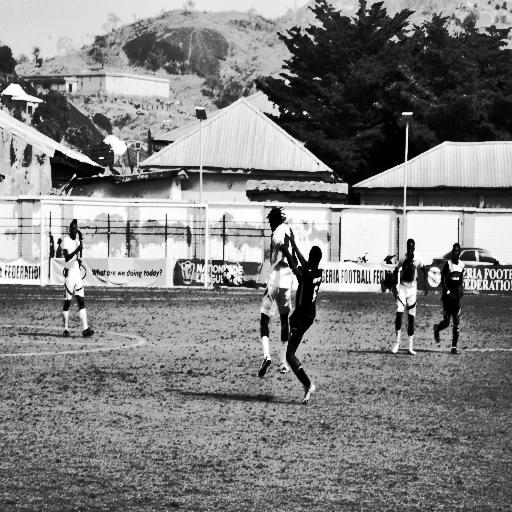ball: (222, 262, 236, 290)
team1: (256, 200, 294, 375), (55, 214, 104, 344), (392, 228, 426, 359)
team2: (288, 241, 334, 413), (435, 240, 468, 358)
